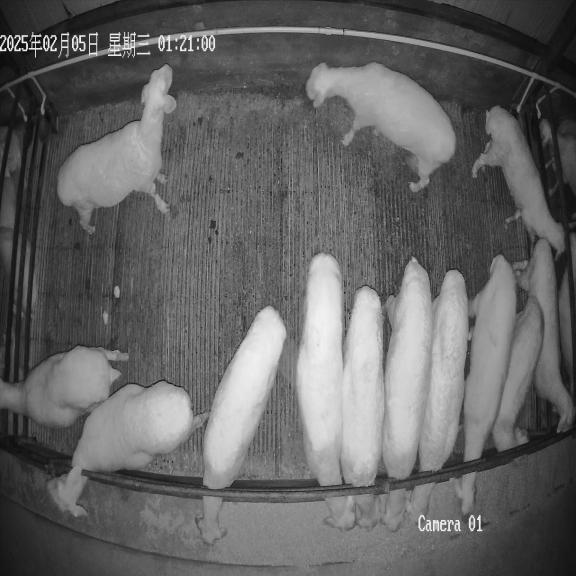eating: (197, 306, 286, 543), (296, 253, 356, 530), (453, 255, 516, 515), (407, 270, 469, 520), (381, 257, 433, 531), (340, 286, 384, 528)
stand: (47, 380, 209, 517), (57, 65, 176, 233), (306, 62, 456, 192), (472, 106, 565, 252), (513, 239, 574, 432), (0, 346, 128, 428), (492, 296, 544, 451)
